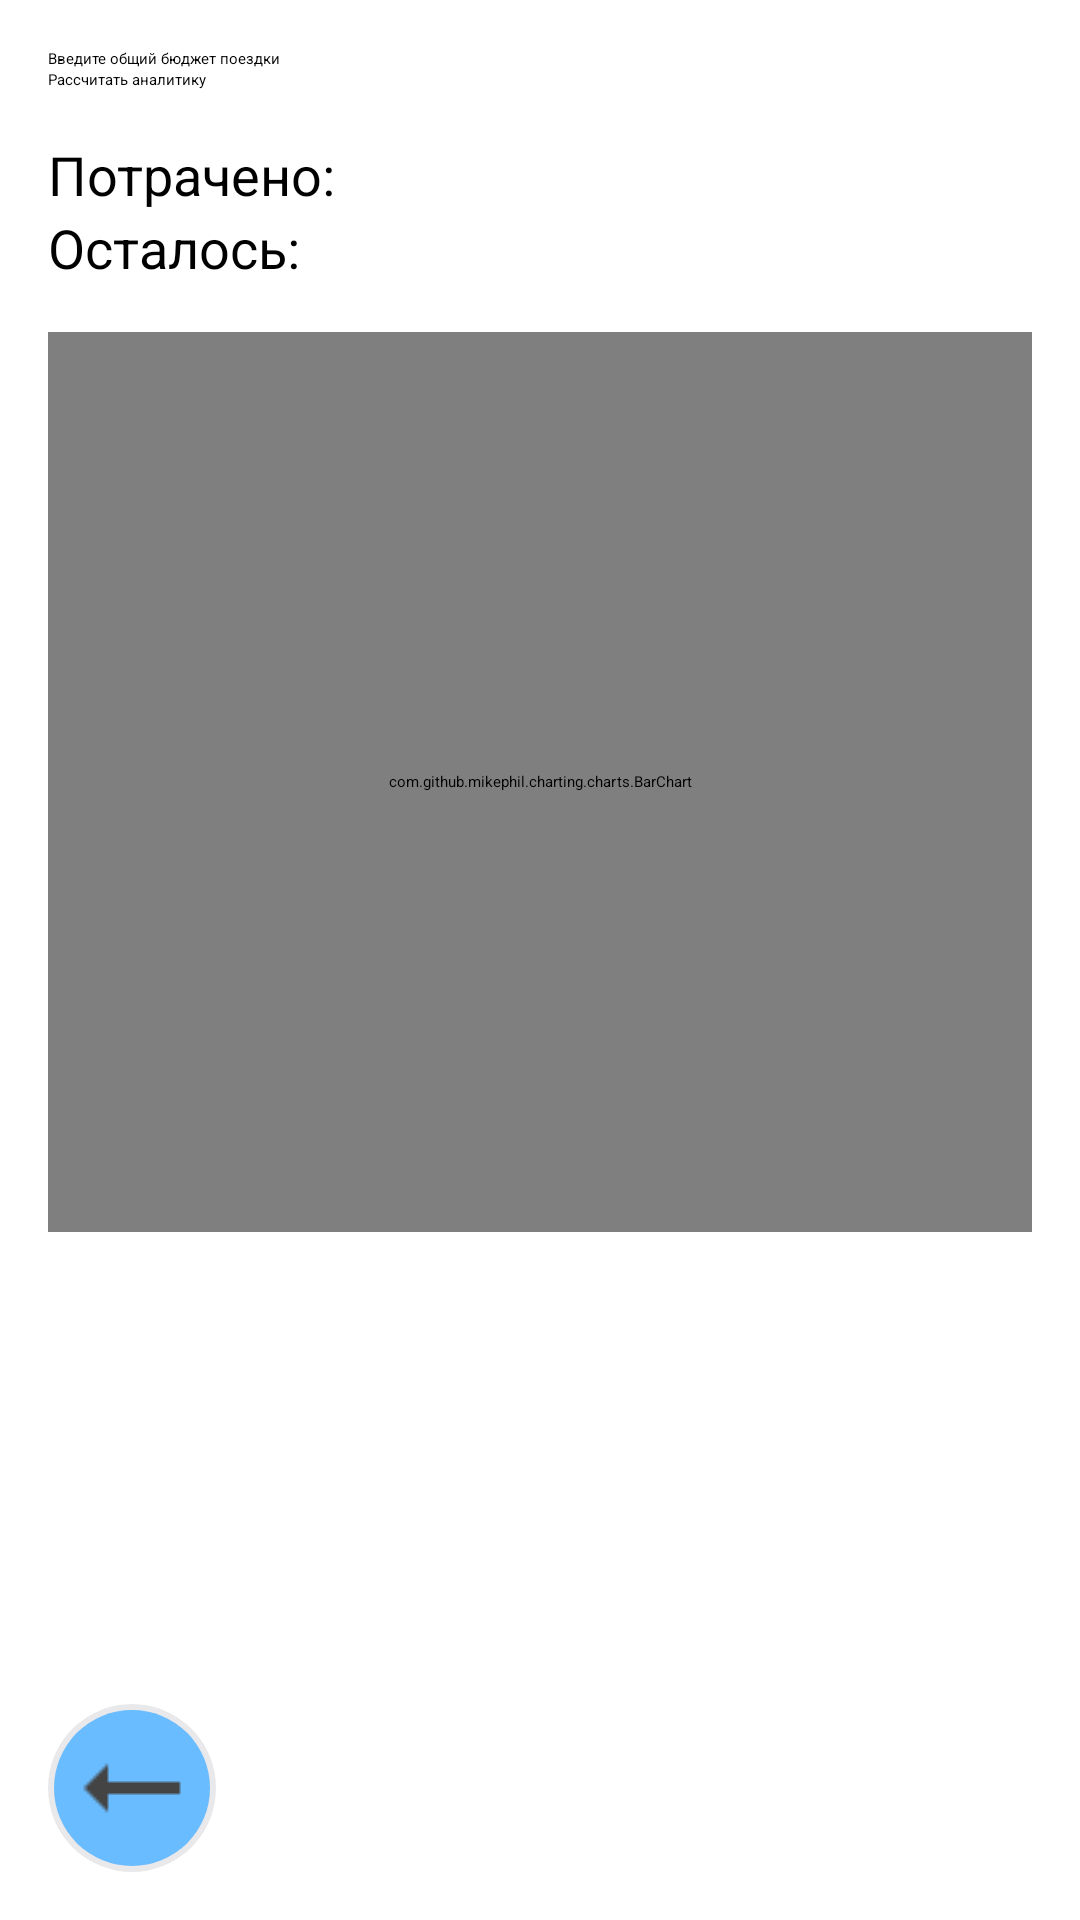

Named icons in this screenshot (1080×1920) and their bounding boxes, [left=x1, top=y1, right=x2, bottom=y2]:
back: [left=54, top=1710, right=210, bottom=1866]
